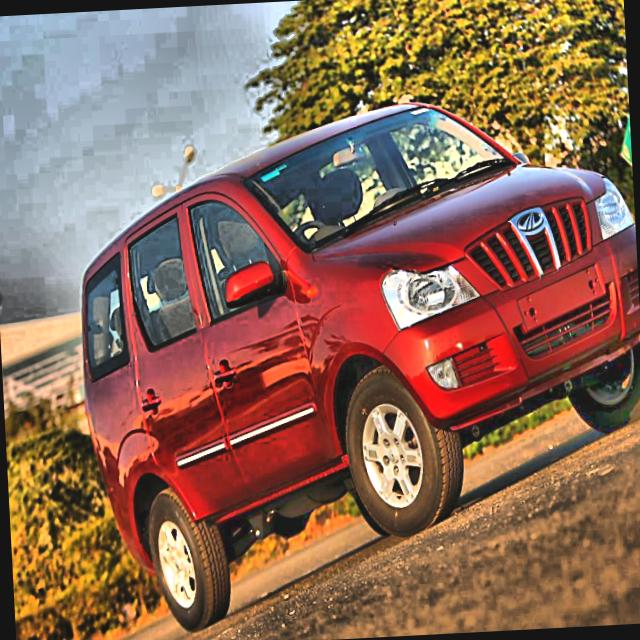Car: (70, 93, 640, 615)
